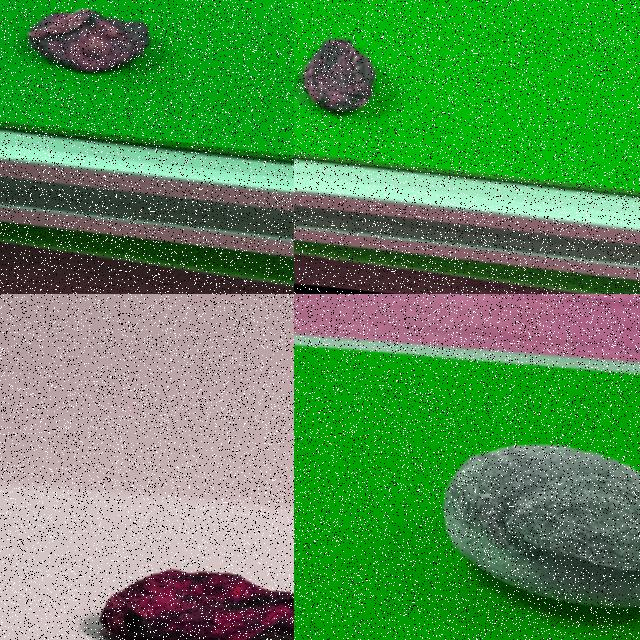Agglomerated_cocoabeans: (369, 377, 639, 639)
Fine_cocoabeans: (24, 483, 293, 639)
Flat_cocoabeans: (0, 0, 282, 157), (294, 0, 509, 180)
